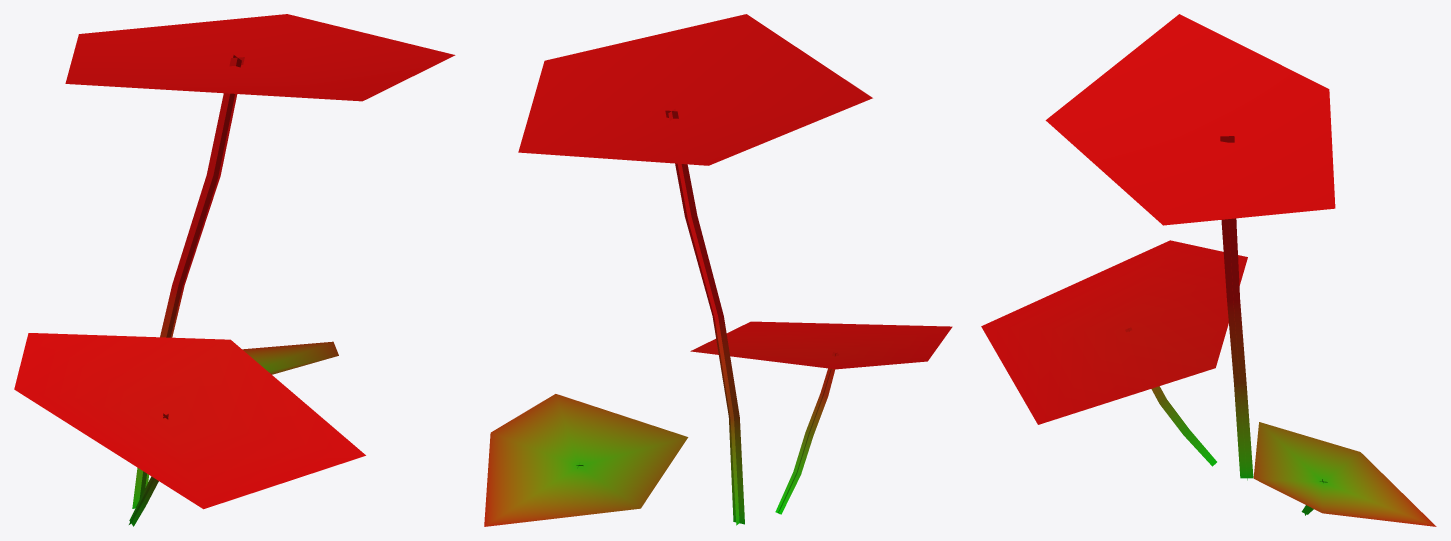
Rendered from Wood Sorrel_LOD1_Var15_wcwmchzja.fbx.
The picture shows the model from 3 angles, left to right: view 1: azimuth 30°, elevation 25°; view 2: azimuth 150°, elevation 25°; view 3: azimuth 270°, elevation 25°; orthographic projection. The views are drawn at different scales.
Visible parts, largest first — view 1: _4ptq_Var15_LOD1; view 2: _4ptq_Var15_LOD1; view 3: _4ptq_Var15_LOD1.
Boxes of the visible parts, x1,y1,x2,y2 form: _4ptq_Var15_LOD1: (14,14,455,526); _4ptq_Var15_LOD1: (484,14,952,526); _4ptq_Var15_LOD1: (981,14,1436,526).
Bounding box in the file's own units: 7.64 × 8.01 × 7.93.
